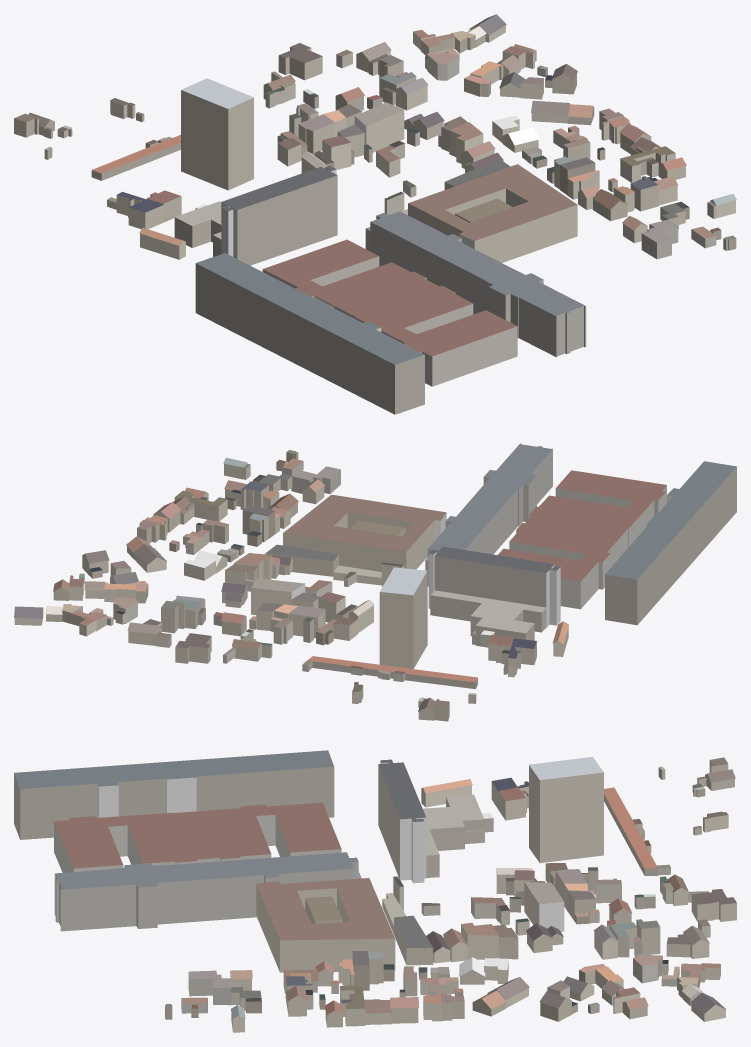
3 renders of one model, top to bottom at view 1: azimuth 30°, elevation 25°; view 2: azimuth 150°, elevation 25°; view 3: azimuth 270°, elevation 25°, orthographic. The views are drawn at different scales.
Visible parts, largest first — view 1: tuile; view 2: tuile; view 3: tuile.
Part boxes in pixels (box(x1,y1,x2,y2)): tuile: box(14, 14, 736, 414); tuile: box(14, 443, 736, 721); tuile: box(14, 750, 736, 1032).
Size of the model in its own units: 264 by 51.45 by 327.
